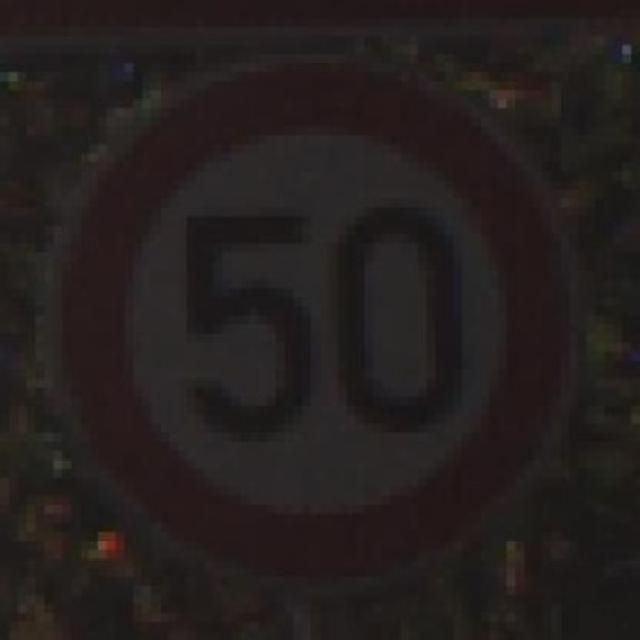forb_speed_over_50: (56, 58, 567, 577)
